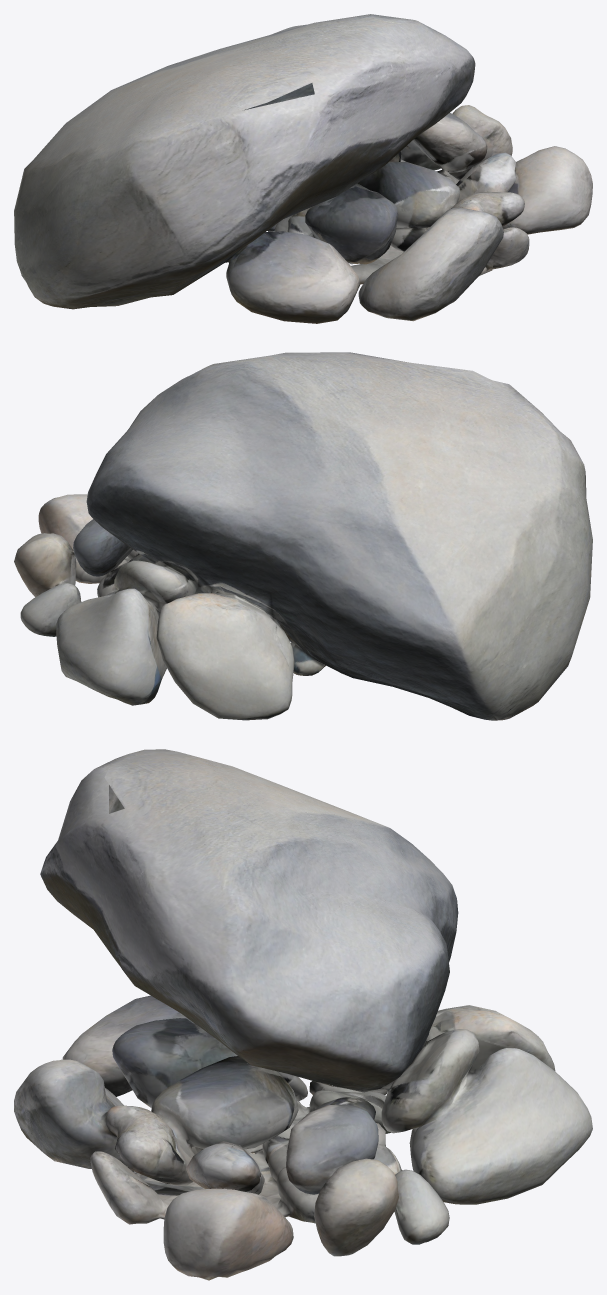
Rendered from Rocks_1207002916_texture.glb.
3 renders of one model, top to bottom at view 1: azimuth 30°, elevation 25°; view 2: azimuth 150°, elevation 25°; view 3: azimuth 270°, elevation 25°, orthographic. The views are drawn at different scales.
Size of the model in its own units: 1.99 by 0.8811 by 1.5.
Materials: 1 (1 with a texture image).
